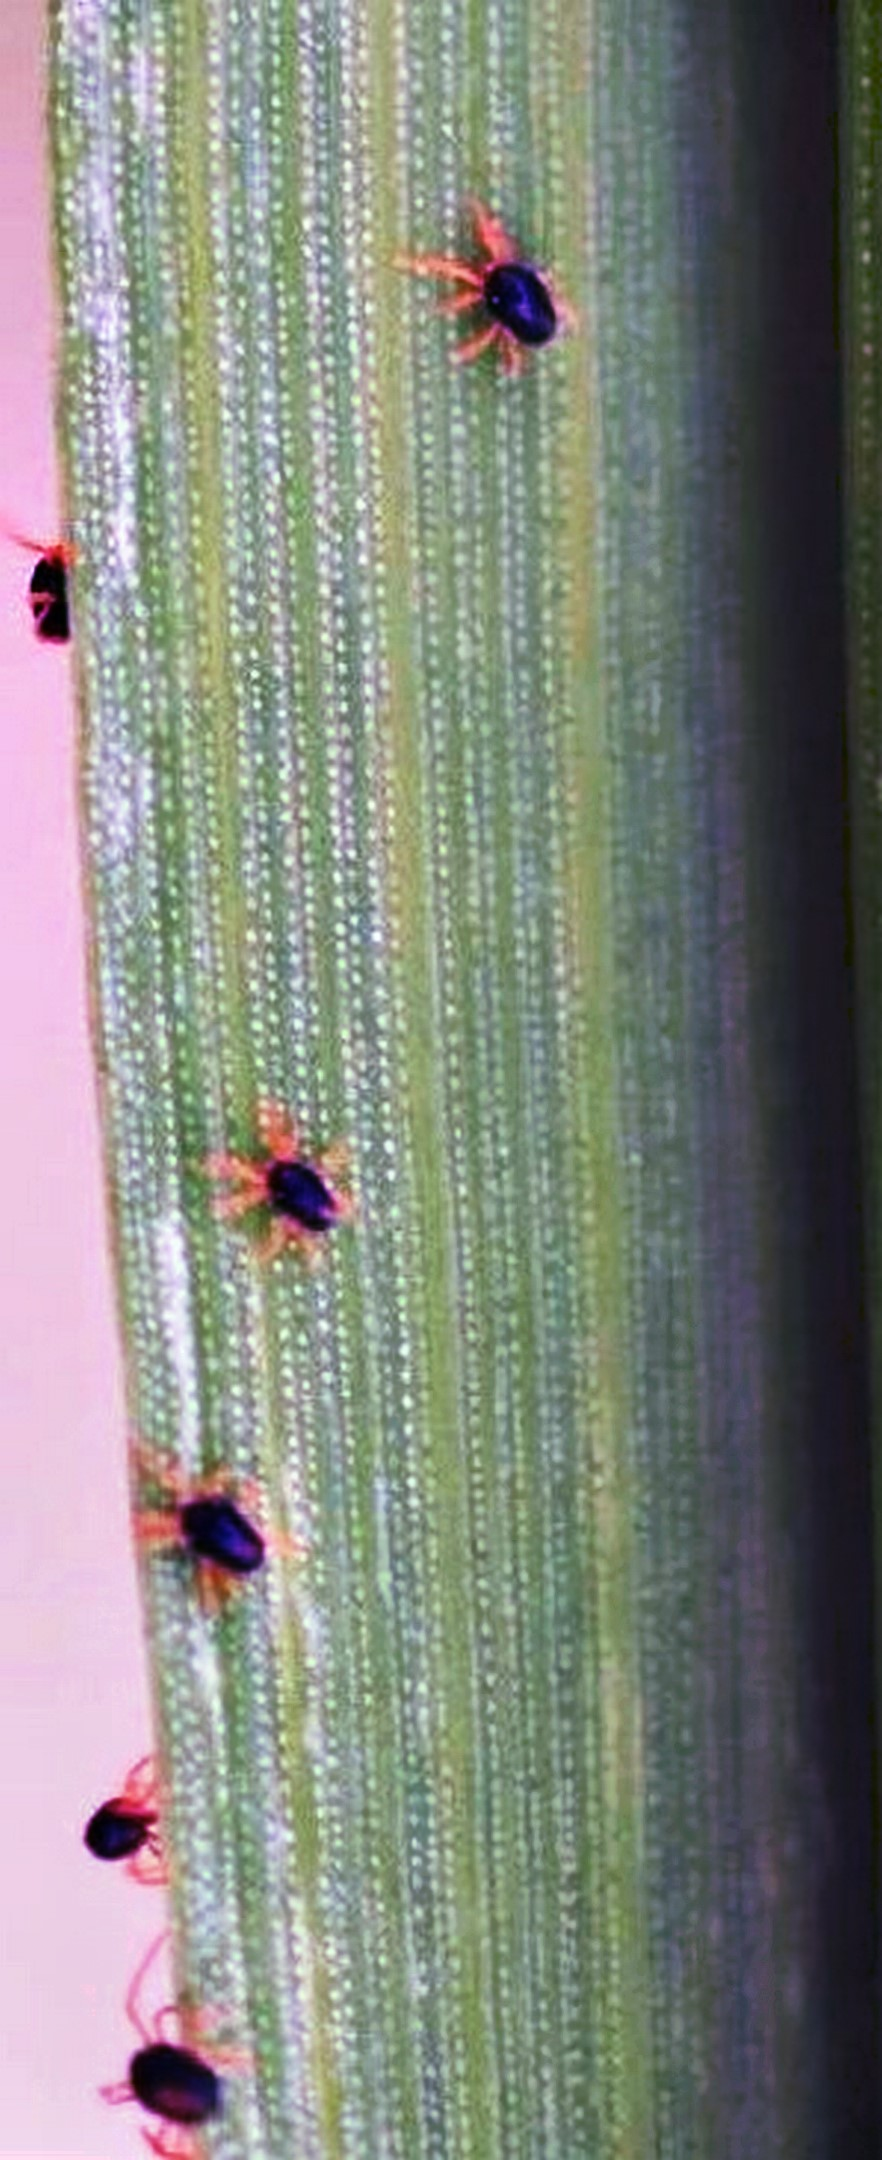Wheat Red Spider: (119, 1043, 413, 1692), (358, 176, 650, 417)
